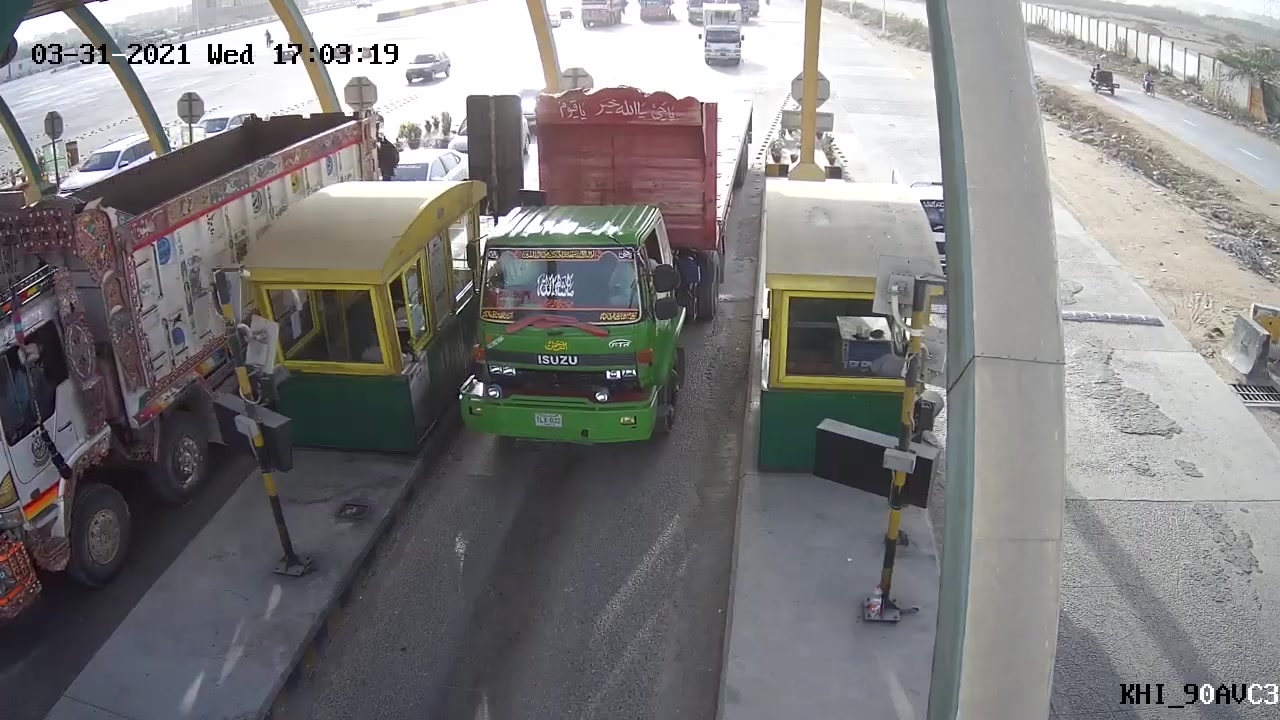F6: (453, 66, 756, 460)
